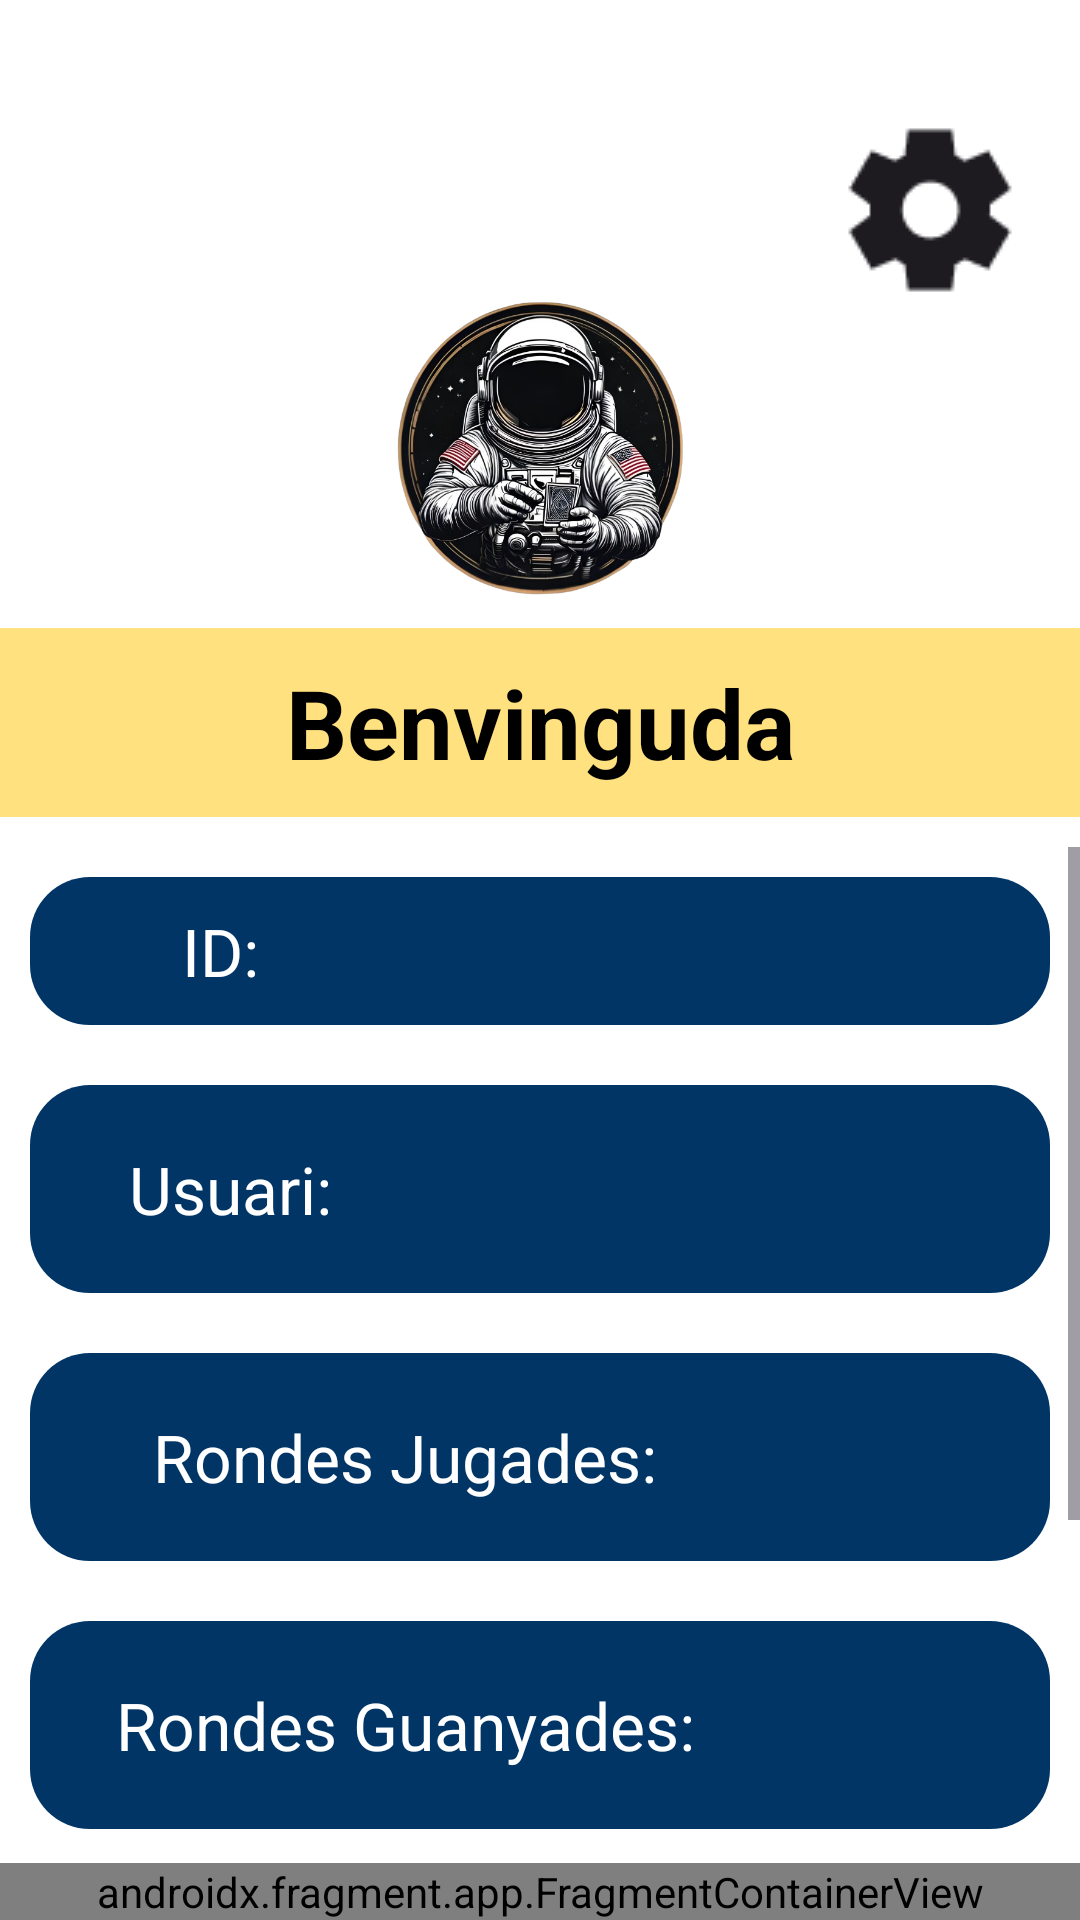

Where icons sit on this 1080x1920 app screen, as {"x1": x1, "y1": y1, "x2": x2, "y2": y2}:
config: {"x1": 848, "y1": 128, "x2": 1012, "y2": 292}
